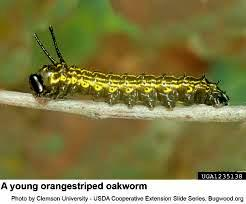Caterpillar: (29, 63, 230, 111)
